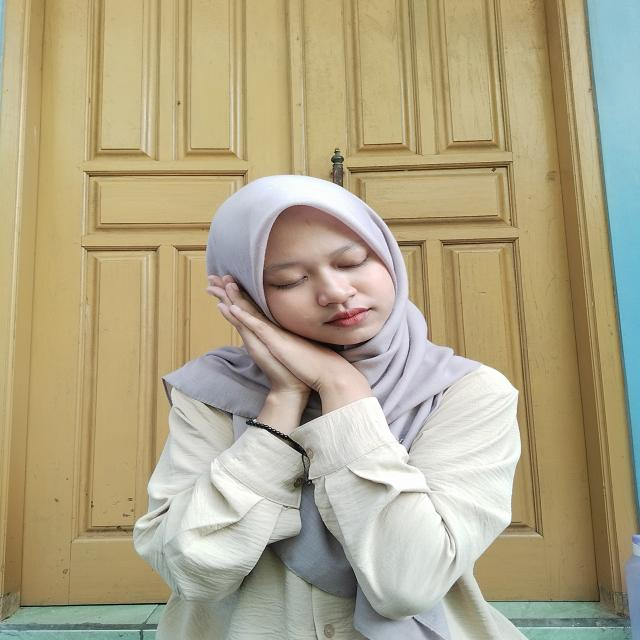tidur: (196, 266, 371, 436)
